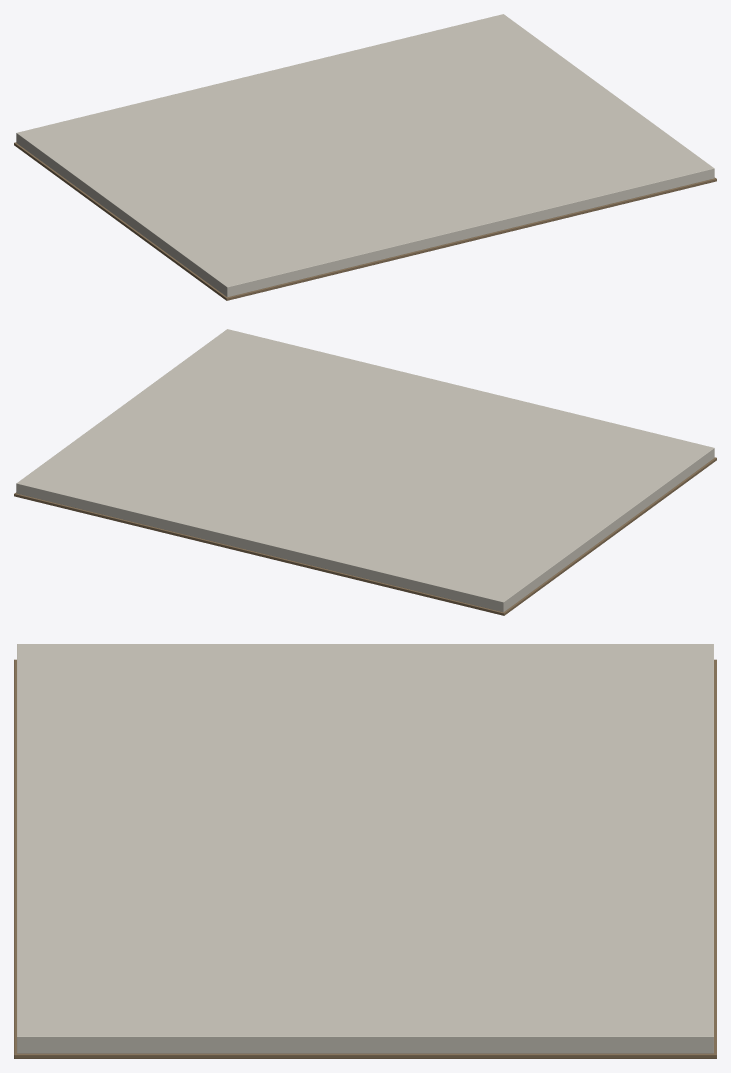
Rendered from diobase.glb.
The picture shows the model from 3 angles, top to bottom: view 1: azimuth 30°, elevation 25°; view 2: azimuth 150°, elevation 25°; view 3: azimuth 270°, elevation 25°; orthographic projection. The views are drawn at different scales.
Parts seen in each view (by area): view 1: DioBase_Stone, DioBase_Wood; view 2: DioBase_Stone, DioBase_Wood; view 3: DioBase_Stone, DioBase_Wood.
Part boxes in pixels (x1,y1,x2,y2): DioBase_Stone: (16,14,714,297); DioBase_Wood: (14,142,716,300); DioBase_Stone: (16,329,714,612); DioBase_Wood: (14,457,716,615); DioBase_Stone: (17,644,713,1053); DioBase_Wood: (14,659,716,1058).
Size of the model in its own units: 161 by 4 by 121.
